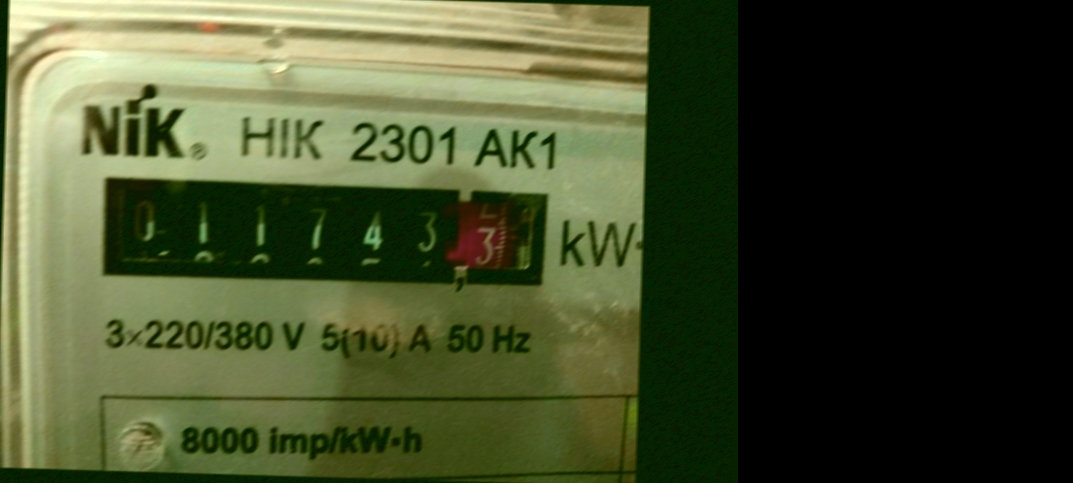0: (128, 194, 159, 242)
1: (248, 198, 271, 247), (193, 197, 212, 245)
3: (412, 205, 441, 253), (472, 221, 497, 266)
4: (358, 203, 387, 252)
7: (304, 202, 329, 251)
screen: (85, 165, 554, 296)
